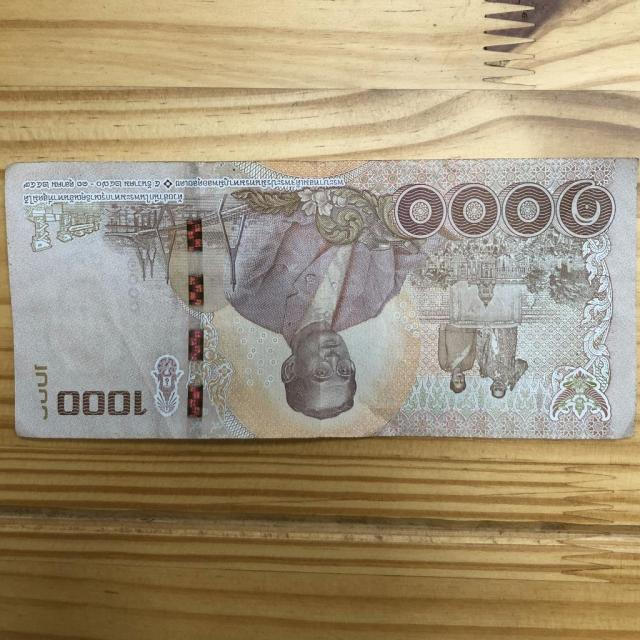THAI1000: (5, 155, 639, 444)
